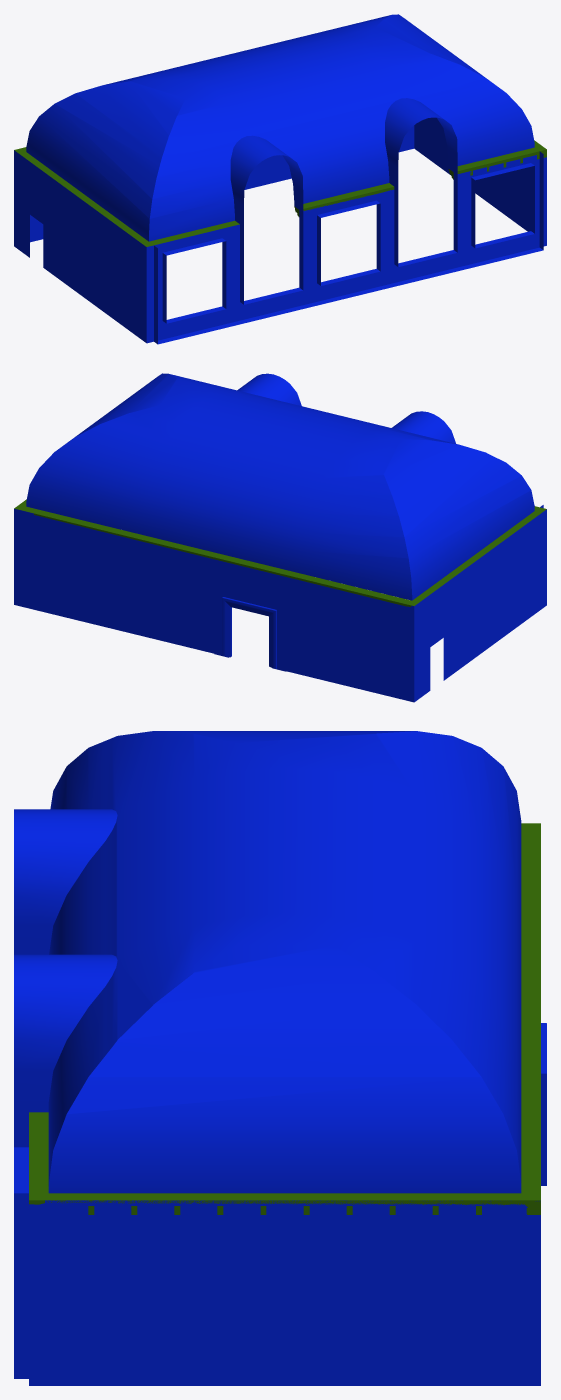
The model's file is 2ndFlRoomMesh 1.fbx.
3 views of the same model, one above another, from view 1: azimuth 30°, elevation 25°; view 2: azimuth 150°, elevation 25°; view 3: azimuth 270°, elevation 25° (orthographic). The views are drawn at different scales.
Visible parts, largest first — view 1: Cube.007, Cube.013; view 2: Cube.007, Cube.013, Frame.002; view 3: Cube.007, Cube.013, Frame.002.
Part boxes in pixels (bbox=[...]): Cube.007: bbox=[14, 14, 546, 344]; Cube.013: bbox=[14, 140, 546, 246]; Cube.007: bbox=[14, 373, 546, 702]; Cube.013: bbox=[14, 499, 546, 606]; Frame.002: bbox=[222, 597, 276, 668]; Cube.007: bbox=[14, 731, 540, 1385]; Cube.013: bbox=[29, 823, 540, 1214]; Frame.002: bbox=[541, 1023, 546, 1185].
Size of the model in its own units: 4809 by 2124 by 2875.
